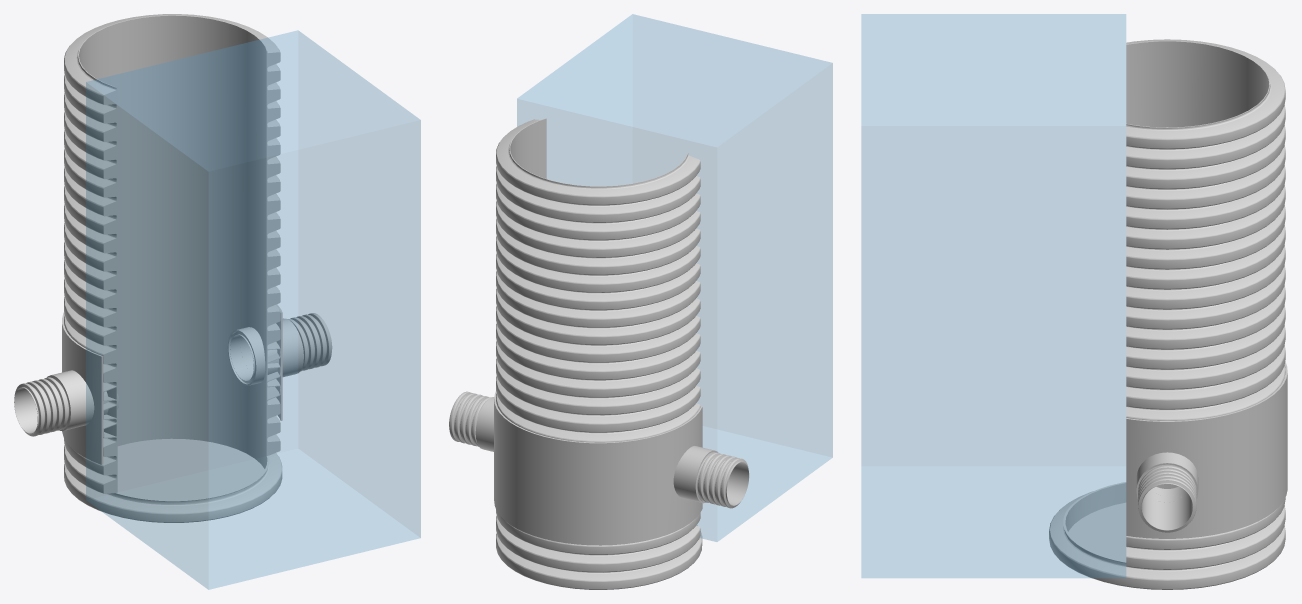
File: rhinopit-serpt600.glb
3 renders of one model, left to right at view 1: azimuth 30°, elevation 25°; view 2: azimuth 150°, elevation 25°; view 3: azimuth 270°, elevation 25°, orthographic. The views are drawn at different scales.
Visible parts, largest first — view 1: cube, serpt-tubing, serpt-base, serpt-inlet, serptoutlet; view 2: cube, serpt-tubing, serpt-base, serpt-inlet, serptoutlet; view 3: cube, serpt-tubing, serpt-base, serptoutlet.
Boxes of the visible parts, x1,y1,x2,y2 form: cube: (86, 30, 420, 589); serpt-tubing: (64, 14, 282, 522); serpt-base: (47, 304, 303, 464); serpt-inlet: (14, 377, 69, 436); serptoutlet: (230, 313, 332, 383); cube: (517, 14, 832, 541); serpt-tubing: (496, 118, 702, 589); serpt-base: (475, 391, 718, 545); serpt-inlet: (696, 452, 749, 508); serptoutlet: (449, 391, 491, 446); cube: (861, 14, 1125, 577); serpt-tubing: (1049, 39, 1285, 589); serpt-base: (1126, 361, 1287, 538); serptoutlet: (1138, 464, 1196, 532).
Bounding box in the file's own units: 1081 × 1542 × 1254.
